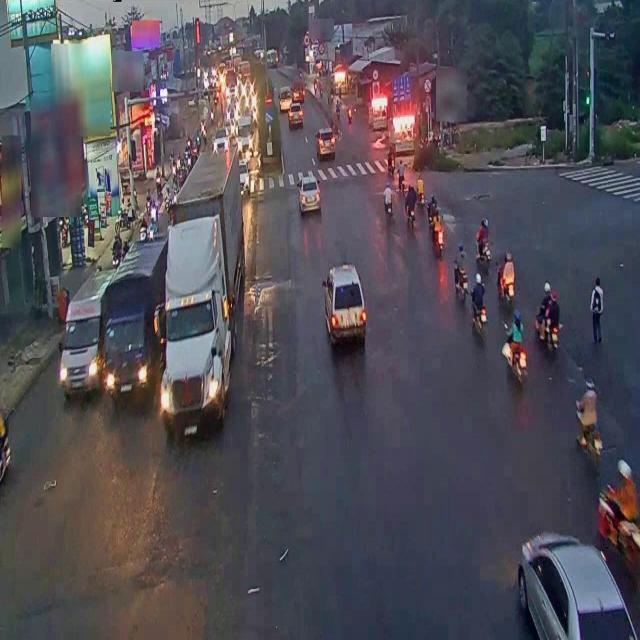car: (515, 521, 640, 640), (324, 260, 366, 345)
motorcycle: (593, 457, 640, 568), (573, 374, 605, 461), (535, 278, 561, 354), (502, 308, 528, 381), (471, 268, 488, 344), (496, 247, 516, 306), (452, 240, 470, 302), (474, 216, 492, 269), (403, 180, 417, 227), (381, 181, 393, 220)
truck: (163, 147, 245, 430), (104, 238, 164, 406), (60, 269, 106, 394)
